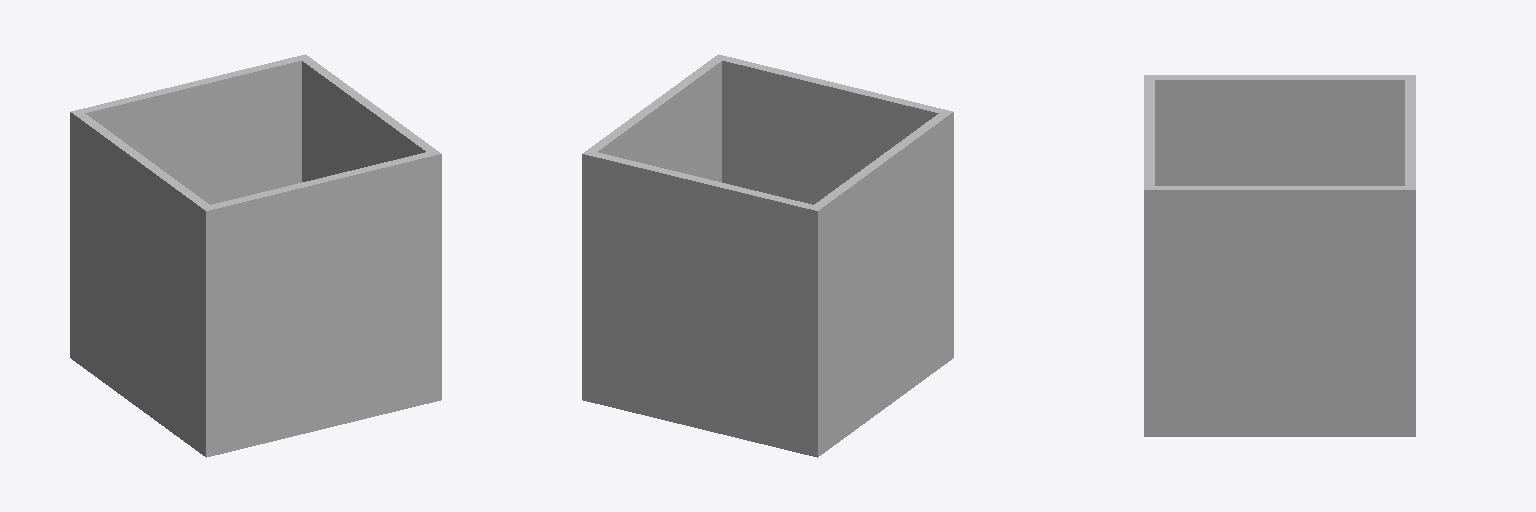
Rendered from brick_room.obj.
3 views of the same model, side by side, from view 1: azimuth 30°, elevation 25°; view 2: azimuth 150°, elevation 25°; view 3: azimuth 270°, elevation 25° (orthographic).
Size of the model in its own units: 5 by 5 by 5.